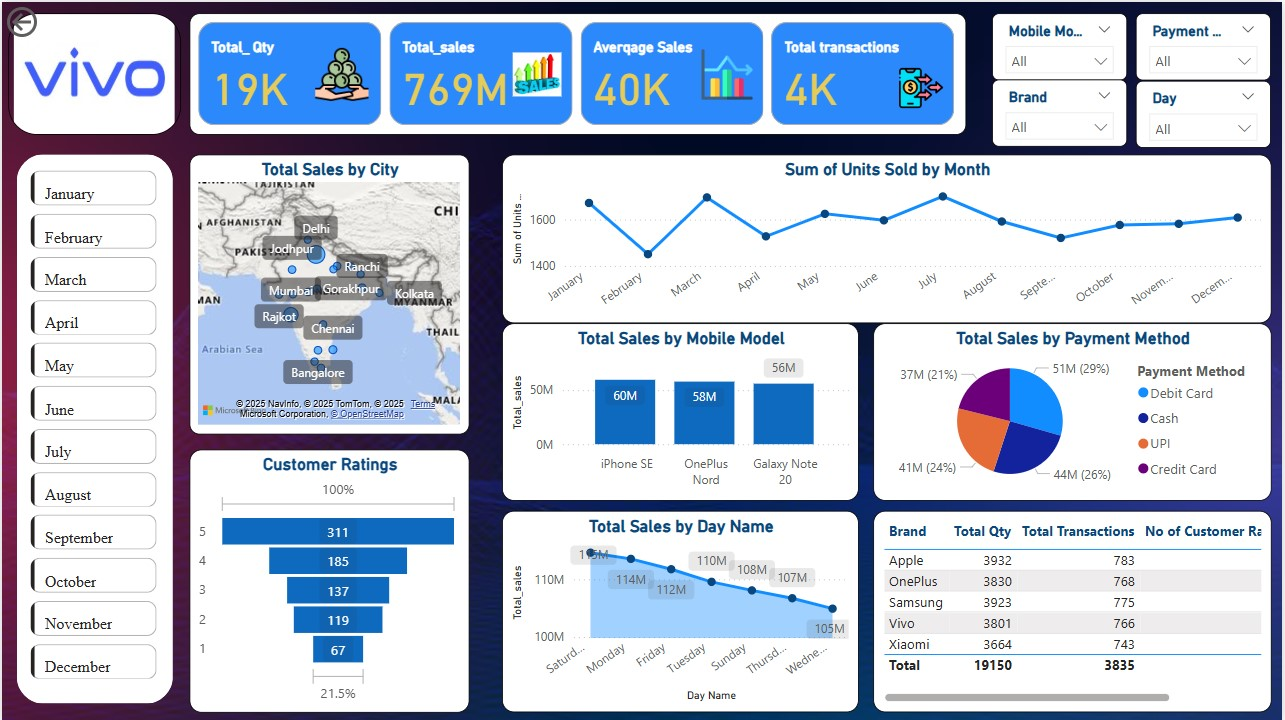

Layout of this report page (visuals, bound fields, positions):
{"tool":"powerbi","page":{"name":"mobile","canvas":[1280,720],"ordinal":0},"visuals":[{"type":"image","box":[6,10.9,172.5,121.9],"z":0},{"type":"shape","box":[14.5,152,155.6,548.9],"z":1000},{"type":"advancedSlicerVisual","fields":{"Values":["Sales_data.Date.Variation.Date Hierarchy.Month"]},"box":[24.1,164.1,136.3,521.2],"z":2000},{"type":"cardVisual","fields":{"Data":["Sales_data.Total_sales","Sales_data.Total_sales1","Sales_data.Averqage","Sales_data.Total+transactions"]},"box":[187,10.9,776.9,121.9],"z":3000},{"type":"map","title":"Total Sales by City","fields":{"Category":["Sales_data.City"],"Size":["Sales_data.Total_sales"]},"box":[187,152,279.9,279.9],"z":8000},{"type":"actionButton","box":[0,0,100,40],"z":9000},{"type":"lineChart","fields":{"Y":["Sum(Sales_data.Units Sold)"],"Category":["Sales_data.Date.Variation.Date Hierarchy.Month","Sales_data.Date.Variation.Date Hierarchy.Day"]},"box":[499.5,152,769.7,168.9],"z":10000},{"type":"clusteredColumnChart","title":"Total Sales by Mobile Model","fields":{"Category":["Sales_data.Mobile Model"],"Y":["Sales_data.Total_sales"]},"box":[499.5,320.9,357.1,177.3],"z":11000},{"type":"pieChart","title":"Total Sales by Payment Method","fields":{"Category":["Sales_data.Payment Method"],"Y":["Sales_data.Total_sales"]},"box":[871.1,320.9,398.1,177.3],"z":12000},{"type":"funnel","title":" Customer Ratings","fields":{"Category":["Sales_data.Customer Ratings"],"Y":["CountNonNull(Sales_data.Customer Ratings)"]},"box":[187,447.6,279.9,263],"z":13000},{"type":"areaChart","title":"Total Sales by Day Name","fields":{"Category":["Sales_data.Day Name"],"Y":["Sales_data.Total_sales"]},"box":[499.5,509.1,357.1,201.5],"z":13001},{"type":"tableEx","fields":{"Values":["Sales_data.Brand","Sales_data.Total_ Qty","Sales_data.Total+transactions","CountNonNull(Sales_data.Customer Ratings)","Sales_data.Total_sales"]},"box":[871.1,509.1,398.1,201.5],"z":13002},{"type":"slicer","fields":{"Values":["Sales_data.Mobile Model"]},"box":[990.5,10.9,135.1,67.6],"z":13003},{"type":"slicer","fields":{"Values":["Sales_data.Payment Method"]},"box":[1134.1,10.9,135.1,67.6],"z":13004},{"type":"slicer","fields":{"Values":["Sales_data.Brand"]},"box":[990.5,77.2,135.1,67.6],"z":13005},{"type":"slicer","fields":{"Values":["Sales_data.Day Name"]},"box":[1134.1,78.4,135.1,67.6],"z":13006}]}

Visuals, with their boxes in screenshot pixels (x1, y1, x2, y2), scaled from the page's 1280x720 canvas onto the 1285x720 screenshot:
image: locate(6, 11, 179, 133)
shape: locate(15, 152, 171, 701)
advancedSlicerVisual - Sales_data.Date.Variation.Date Hierarchy.Month: locate(24, 164, 161, 685)
cardVisual - Sales_data.Total_sales x Sales_data.Total_sales1: locate(188, 11, 968, 133)
"Total Sales by City" map: locate(188, 152, 469, 432)
actionButton: locate(0, 0, 100, 40)
lineChart - Sum(Sales_data.Units Sold) x Sales_data.Date.Variation.Date Hierarchy.Month: locate(501, 152, 1274, 321)
"Total Sales by Mobile Model" clusteredColumnChart: locate(501, 321, 860, 498)
"Total Sales by Payment Method" pieChart: locate(875, 321, 1274, 498)
" Customer Ratings" funnel: locate(188, 448, 469, 711)
"Total Sales by Day Name" areaChart: locate(501, 509, 860, 711)
tableEx - Sales_data.Brand x Sales_data.Total_ Qty: locate(875, 509, 1274, 711)
slicer - Sales_data.Mobile Model: locate(994, 11, 1130, 78)
slicer - Sales_data.Payment Method: locate(1139, 11, 1274, 78)
slicer - Sales_data.Brand: locate(994, 77, 1130, 145)
slicer - Sales_data.Day Name: locate(1139, 78, 1274, 146)
